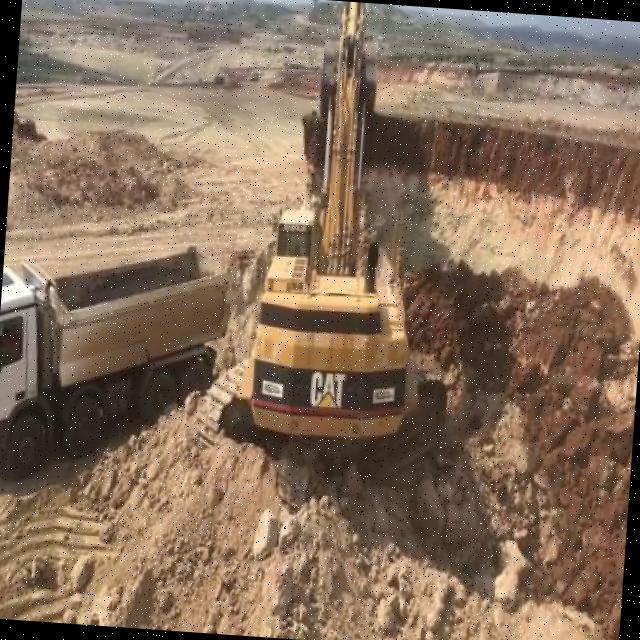Dump Truck: (0, 225, 238, 495)
Excavator: (224, 0, 474, 522)
